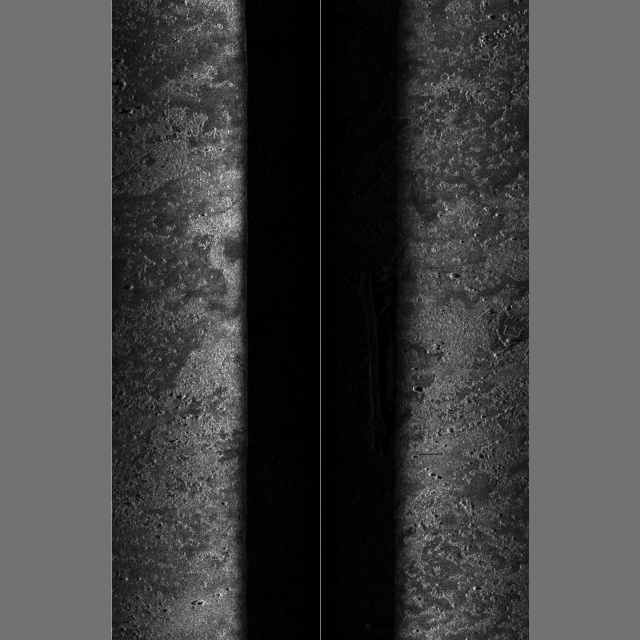Shipwreck: (360, 252, 529, 461)
